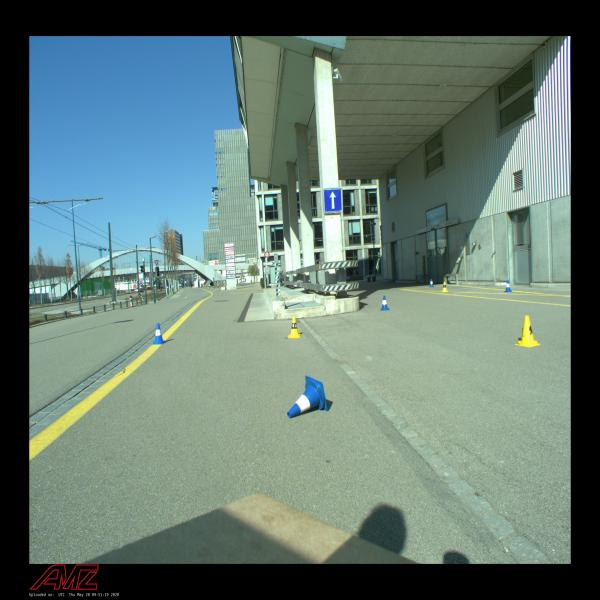blue_cone: (287, 375, 328, 418), (152, 324, 167, 344), (380, 296, 390, 310), (504, 280, 512, 292), (428, 279, 434, 287)
yellow_cone: (515, 316, 541, 347), (288, 317, 302, 338), (442, 282, 448, 292)
